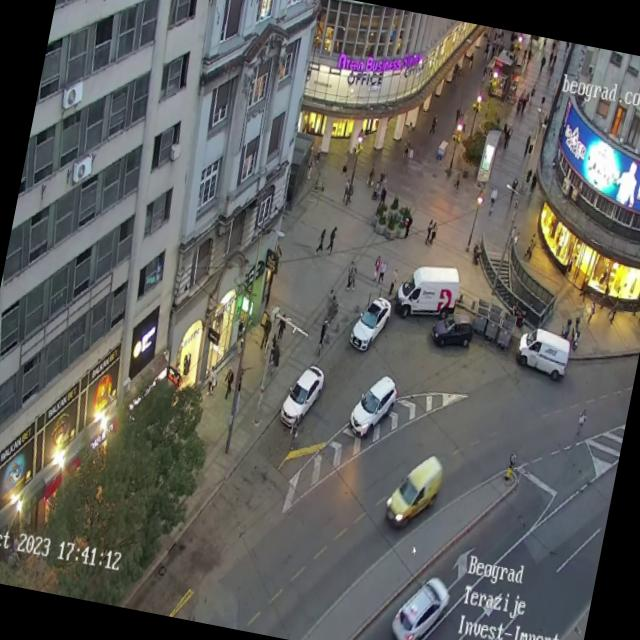car: (382, 447, 446, 534), (391, 260, 464, 324), (387, 570, 453, 640), (346, 369, 400, 443), (278, 360, 326, 432), (514, 326, 574, 383), (347, 292, 392, 356), (428, 310, 476, 352)
